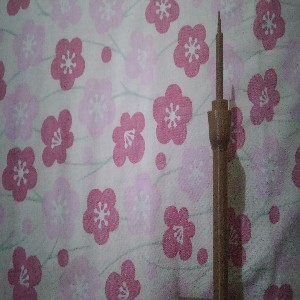solder: (206, 8, 234, 300)
